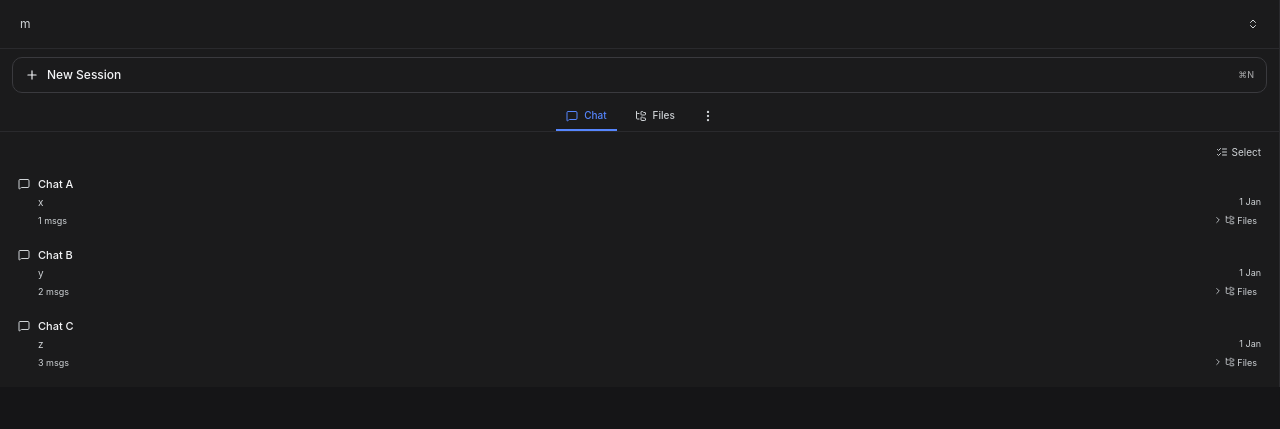
Test: LeftPanel multi-select › select-all marks every chat
Click the button with test id "select-chats": click(1238, 152) [1210, 140, 1267, 164]
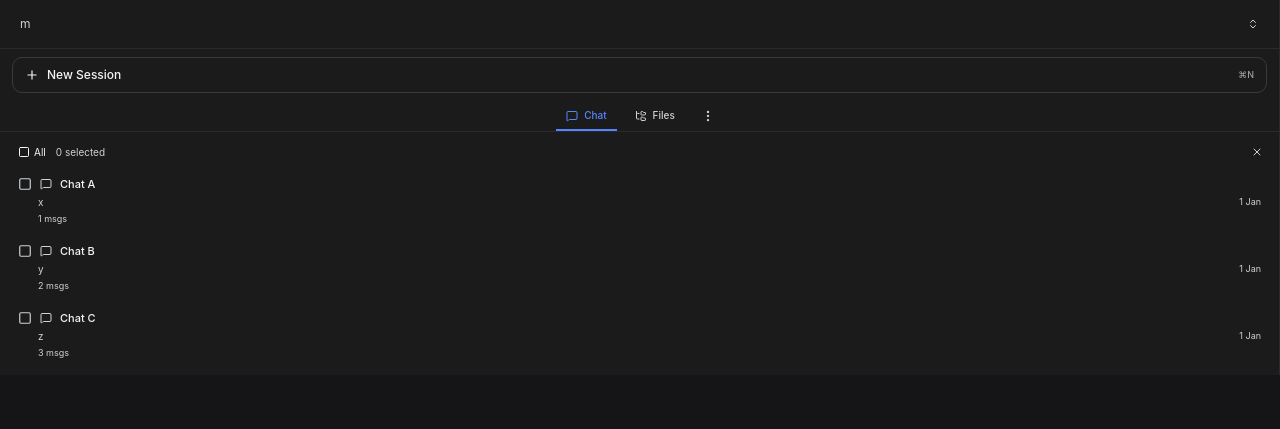
Click the button titled "Select all": click(32, 152) [12, 140, 52, 164]
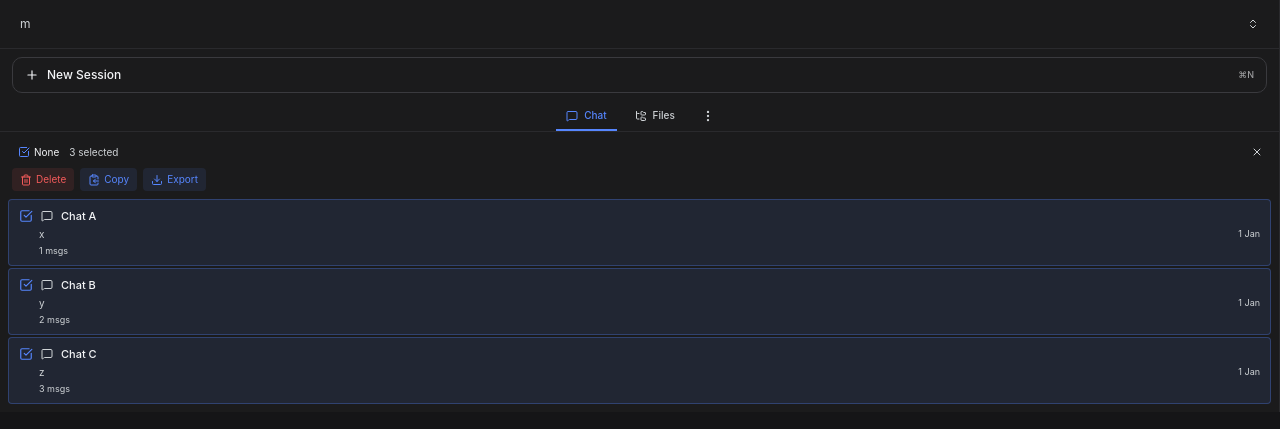
Now the text with test id "selected-count" reads "3 selected", box [69, 144, 118, 160]
